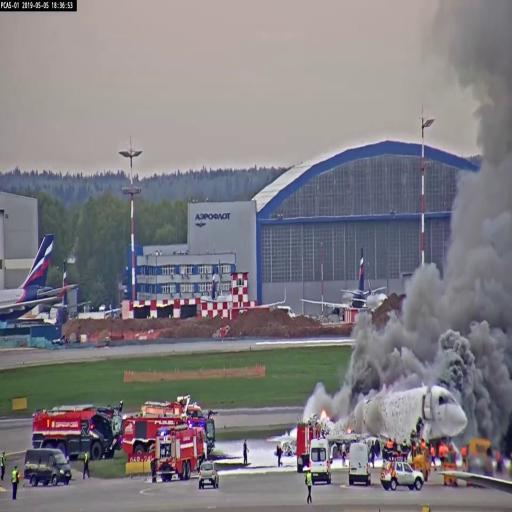smoke: (442, 261, 510, 384), (472, 137, 512, 317), (364, 313, 436, 400)
